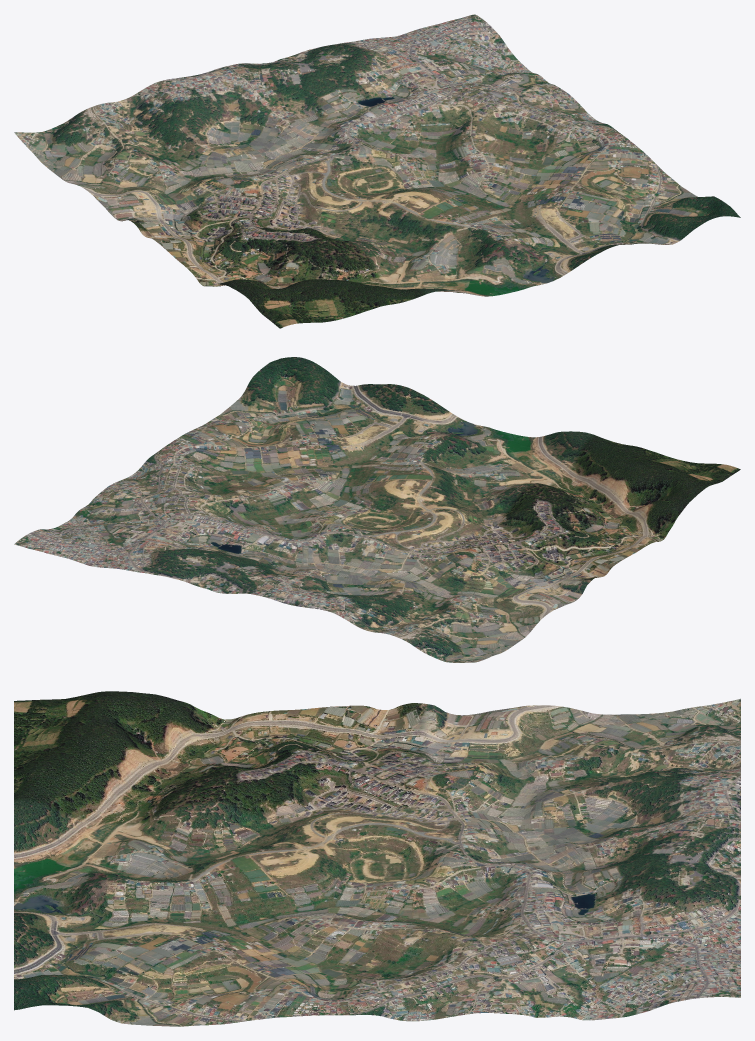
The model's file is terrain_real_T_W01_S01.glb.
3 views of the same model, one above another, from view 1: azimuth 30°, elevation 25°; view 2: azimuth 150°, elevation 25°; view 3: azimuth 270°, elevation 25° (orthographic). The views are drawn at different scales.
Visible parts, largest first — view 1: TerrainReal_T_W01_S01; view 2: TerrainReal_T_W01_S01; view 3: TerrainReal_T_W01_S01.
Part boxes in pixels (<box>): TerrainReal_T_W01_S01: <box>14,14,740,328</box>; TerrainReal_T_W01_S01: <box>14,357,740,662</box>; TerrainReal_T_W01_S01: <box>14,691,740,1026</box>.
Size of the model in its own units: 2000 by 158 by 2000.
1 material, 1 textured.
